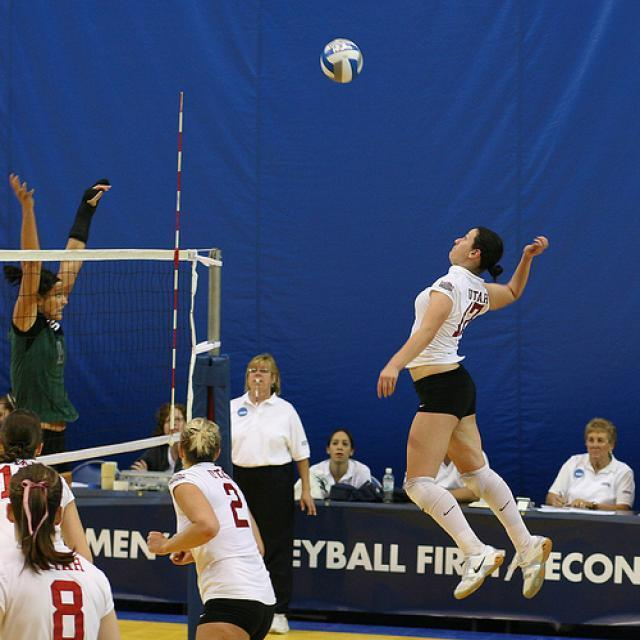volleyball: (319, 37, 363, 82)
